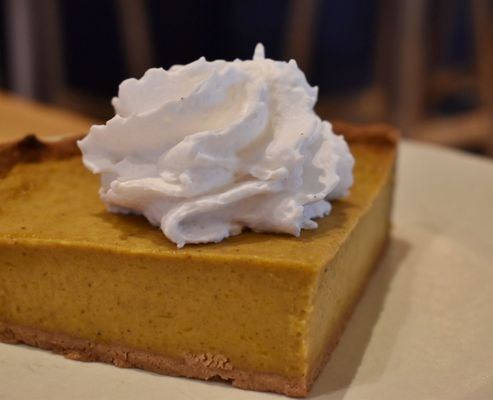soup: (1, 50, 396, 395)
